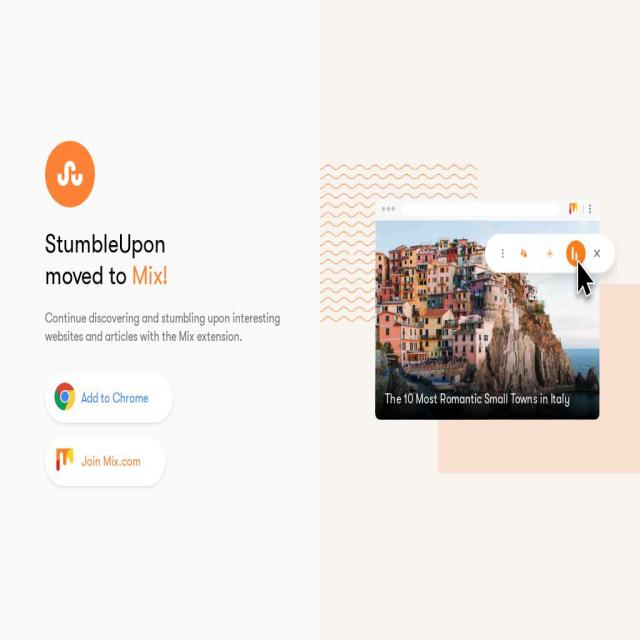navigation-links: (36, 367, 182, 500)
